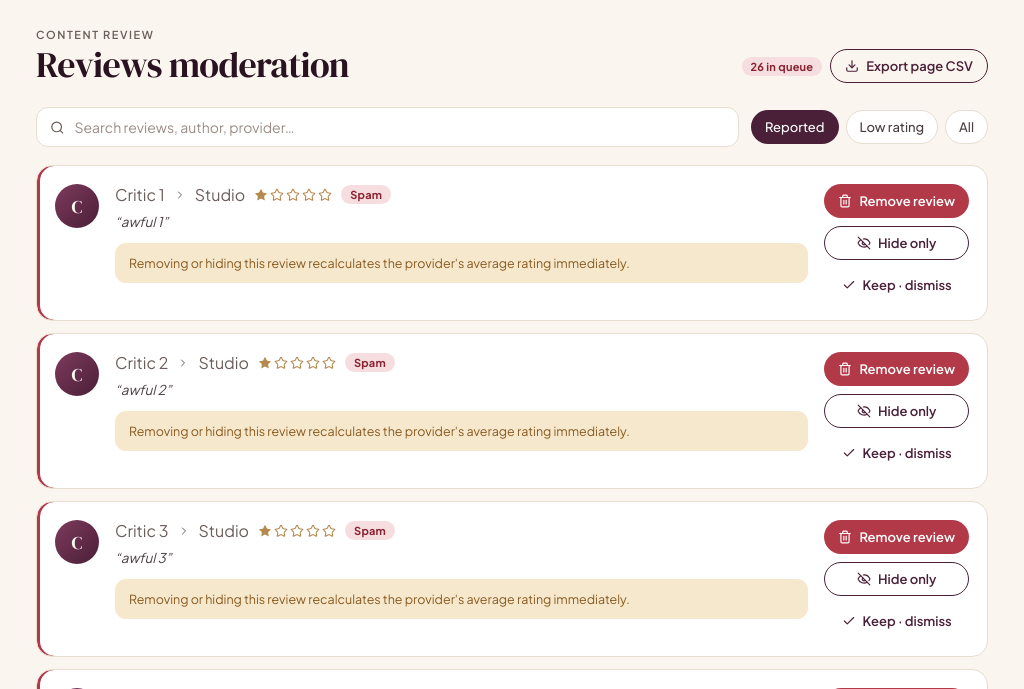
Test: <Reviews> - the reported queue is a server page too › dismissing a report re-reads the queue
What coordinates should you click on to do the following:
click the 1st button "Keep · dismiss"
I would click on:
 (897, 285)
Its box is [824, 268, 969, 302].
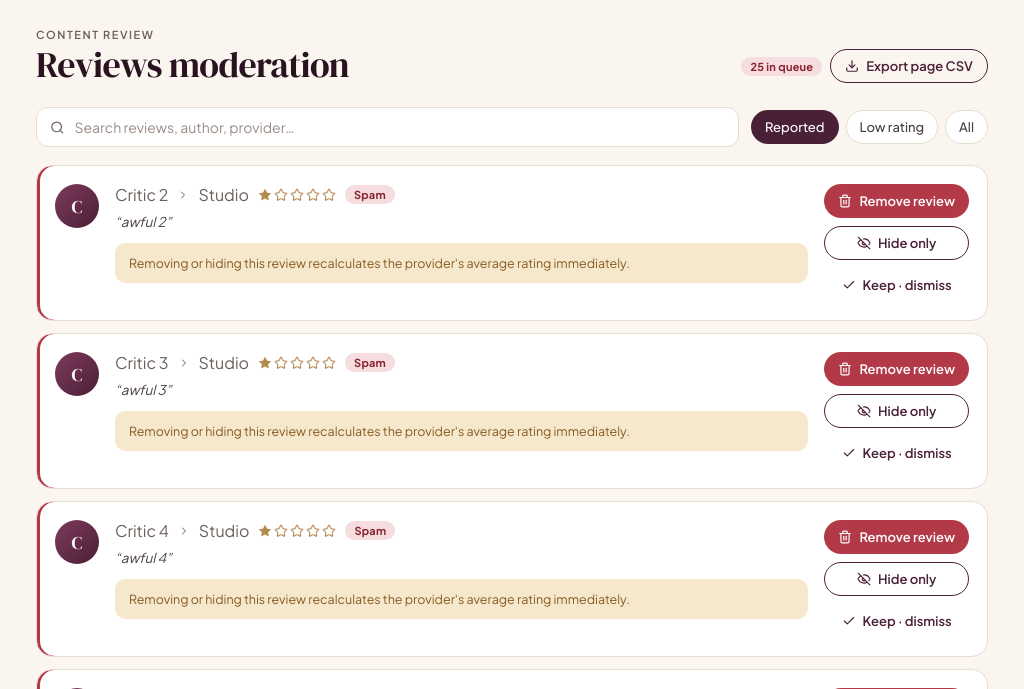
Expected: the text "25 in queue" is shown, [741, 56, 822, 76]
